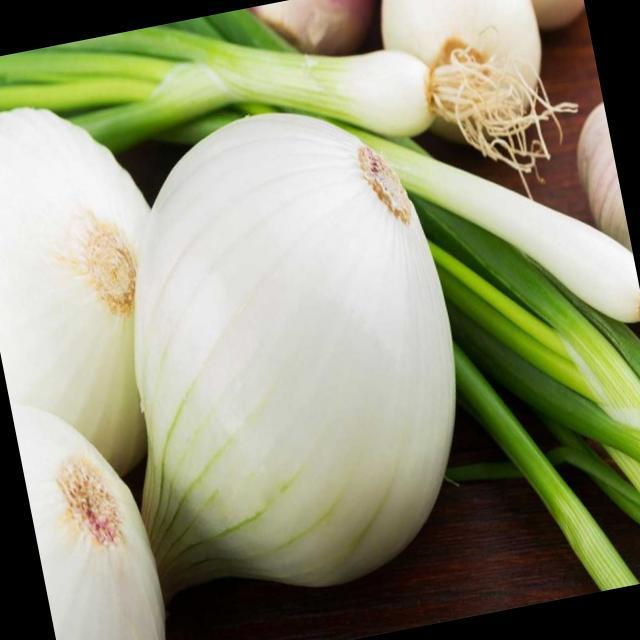ONIONS: (84, 90, 498, 620), (0, 99, 167, 452), (12, 384, 176, 640)
